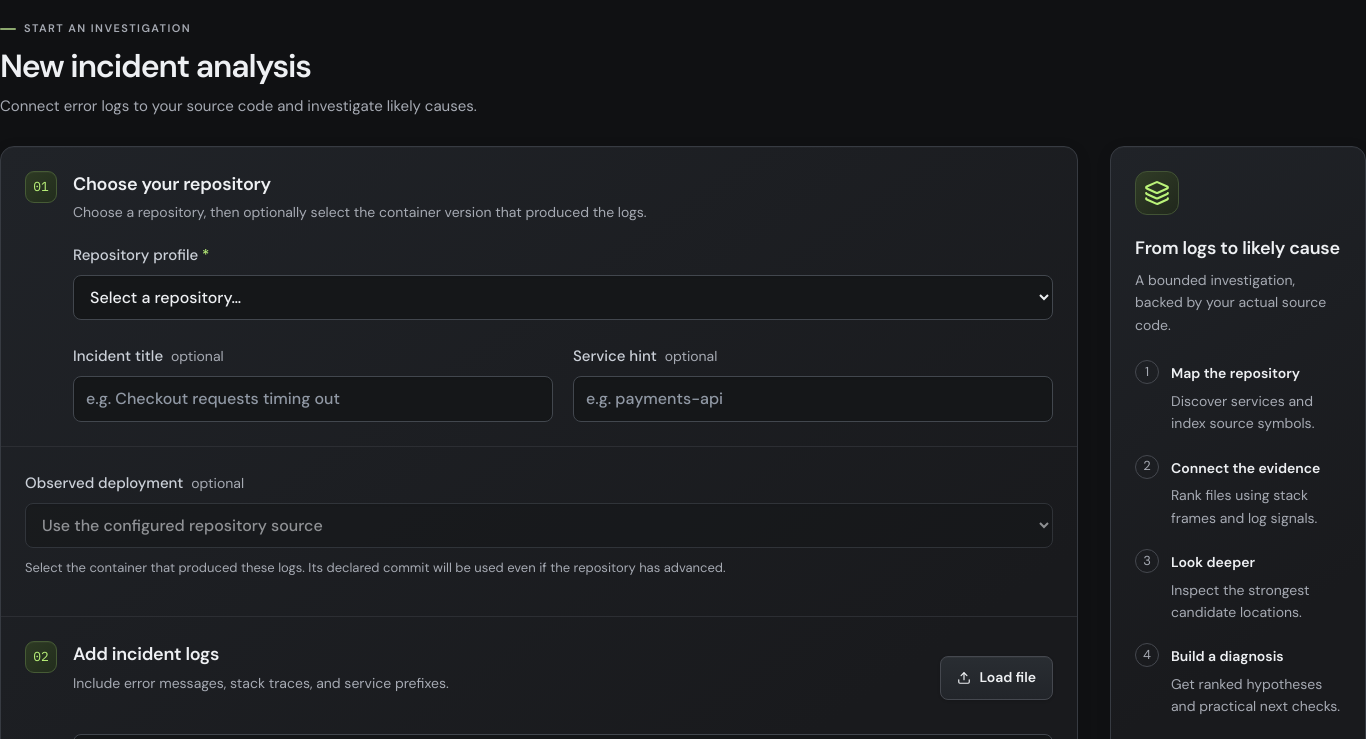
it: requires initial sync before analysis and previews the synced commit afterwards
Later steps or results of the test are not shown.
Select "GitHub app" in the dropdown labelled "Repository profile *": (563, 298) [73, 276, 1053, 320]
(page scrolled)
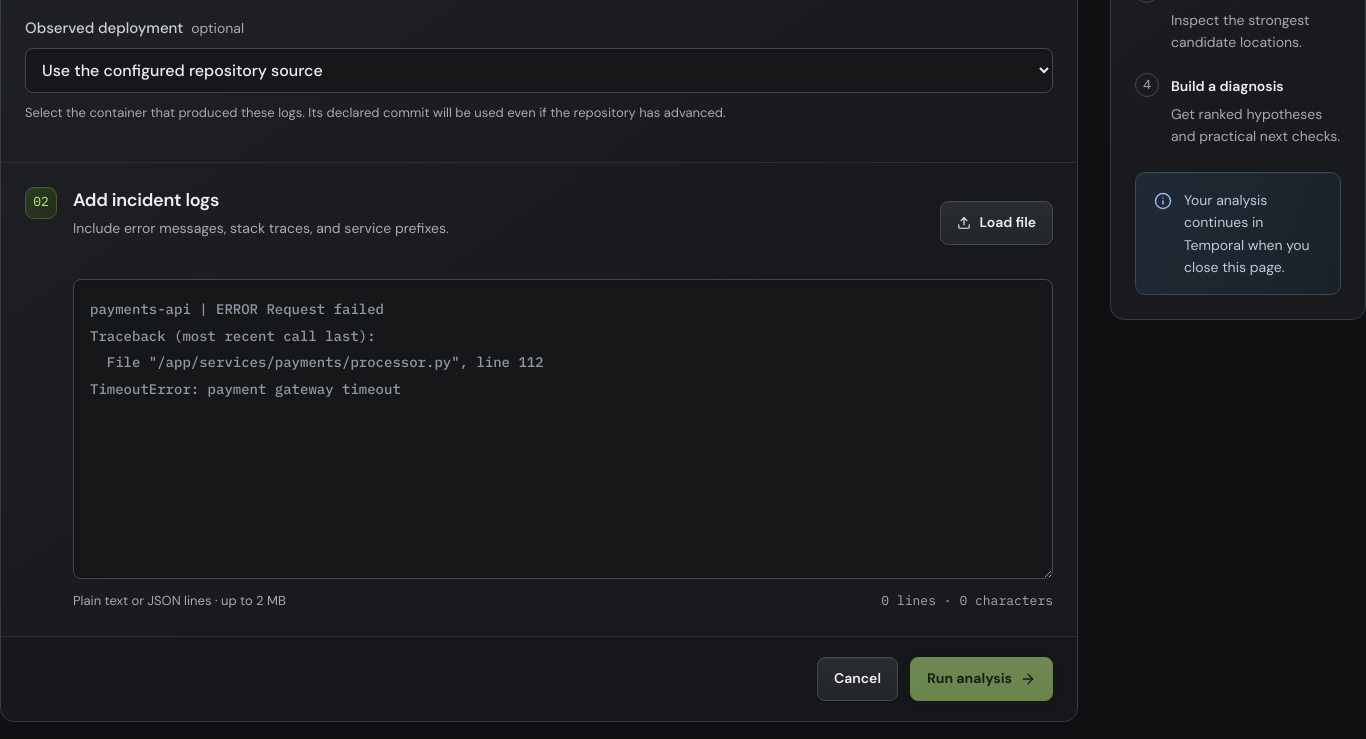
Replace the text in the text box named "Incident logs" with "error": (563, 429) [73, 279, 1053, 579]
(page scrolled)
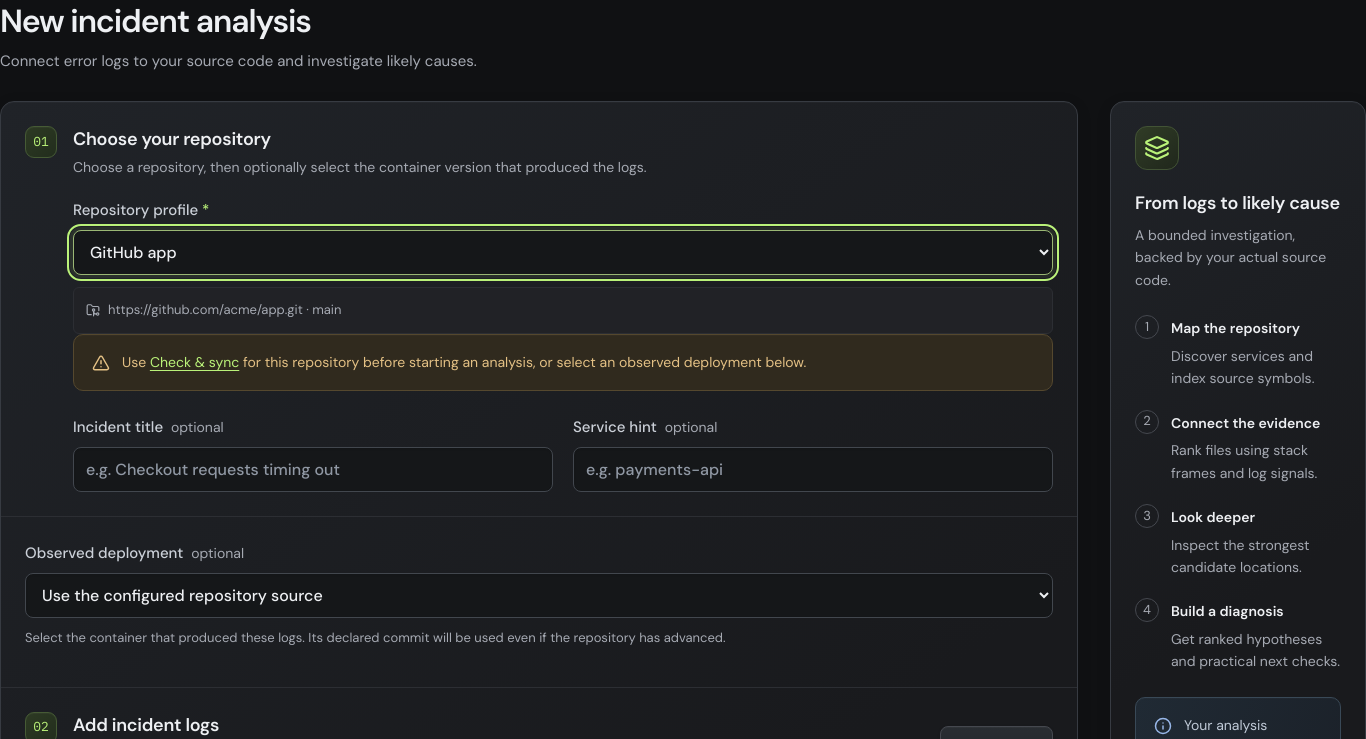
expect the text "before starting an analysis" is shown: met, box [239, 353, 806, 371]
